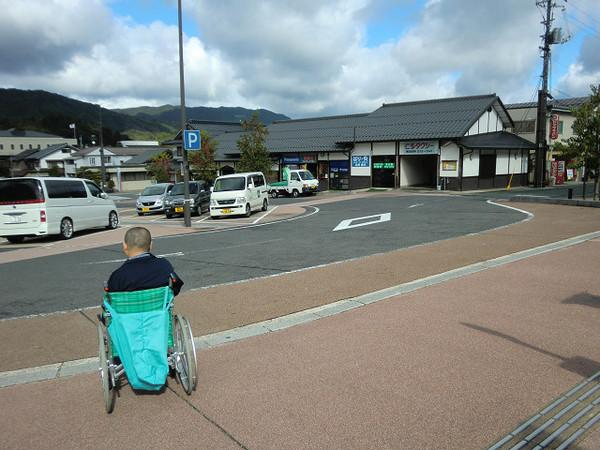wheelchair: (98, 227, 198, 414)
